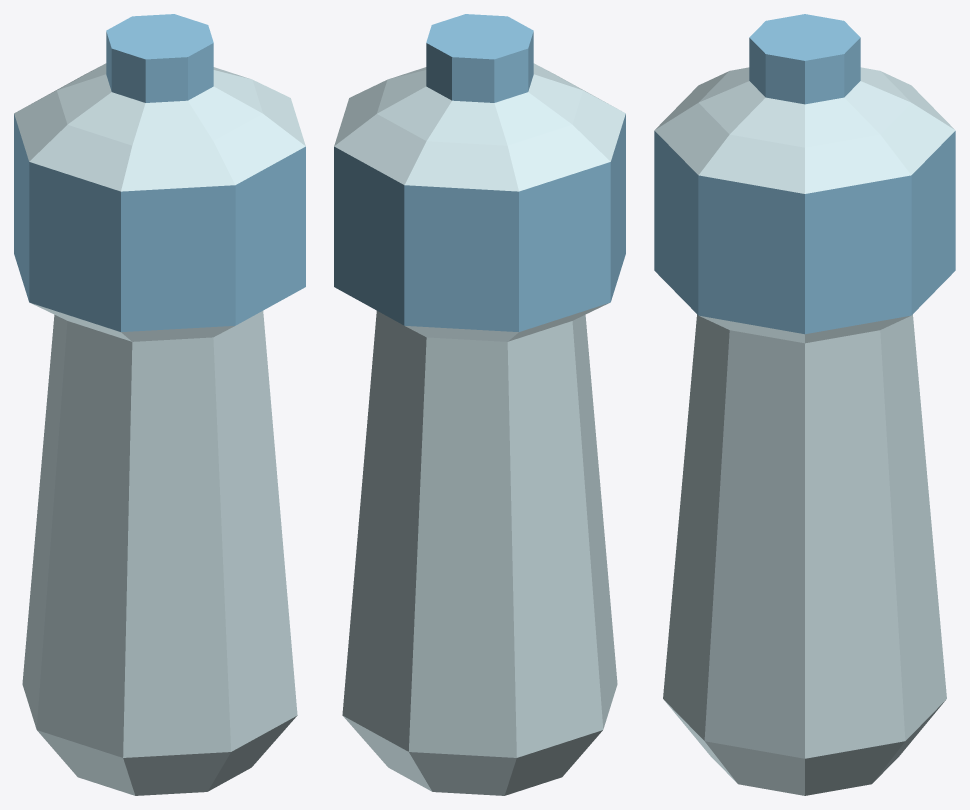
File: WaterBottle.fbx
3 views of the same model, side by side, from view 1: azimuth 30°, elevation 25°; view 2: azimuth 150°, elevation 25°; view 3: azimuth 270°, elevation 25° (orthographic).
Parts seen in each view (by area): view 1: WaterBottle; view 2: WaterBottle; view 3: WaterBottle.
Part boxes in pixels (x1,y1,x2,y2): WaterBottle: (14, 14, 305, 795); WaterBottle: (334, 14, 625, 795); WaterBottle: (654, 14, 955, 795).
Bounding box in the file's own units: 0.0955 × 0.2512 × 0.0955.
